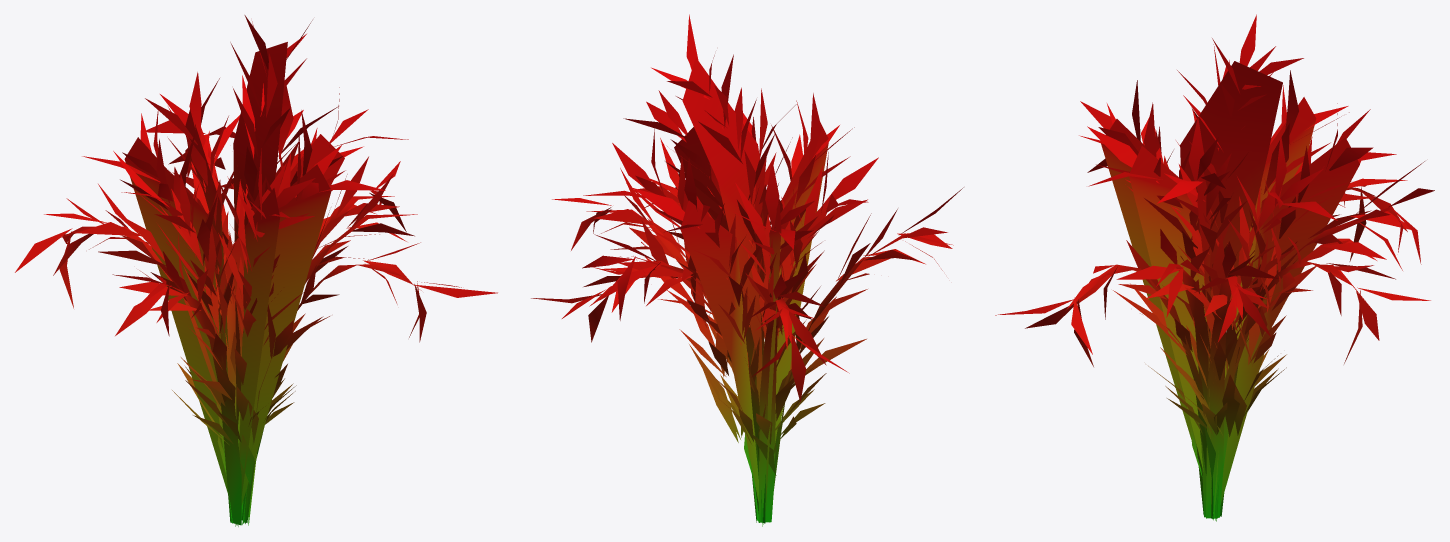
File: Var9_LOD6.fbx
3 views of the same model, side by side, from view 1: azimuth 30°, elevation 25°; view 2: azimuth 150°, elevation 25°; view 3: azimuth 270°, elevation 25° (orthographic). The views are drawn at different scales.
Parts seen in each view (by area): view 1: _0t4a_Var9_LOD6; view 2: _0t4a_Var9_LOD6; view 3: _0t4a_Var9_LOD6.
Boxes of the visible parts, box(x1,y1,x2,y2) form: _0t4a_Var9_LOD6: box(15, 15, 497, 526); _0t4a_Var9_LOD6: box(531, 14, 963, 526); _0t4a_Var9_LOD6: box(995, 14, 1434, 521).
Bounding box in the file's own units: 24.24 × 33.23 × 25.27.
